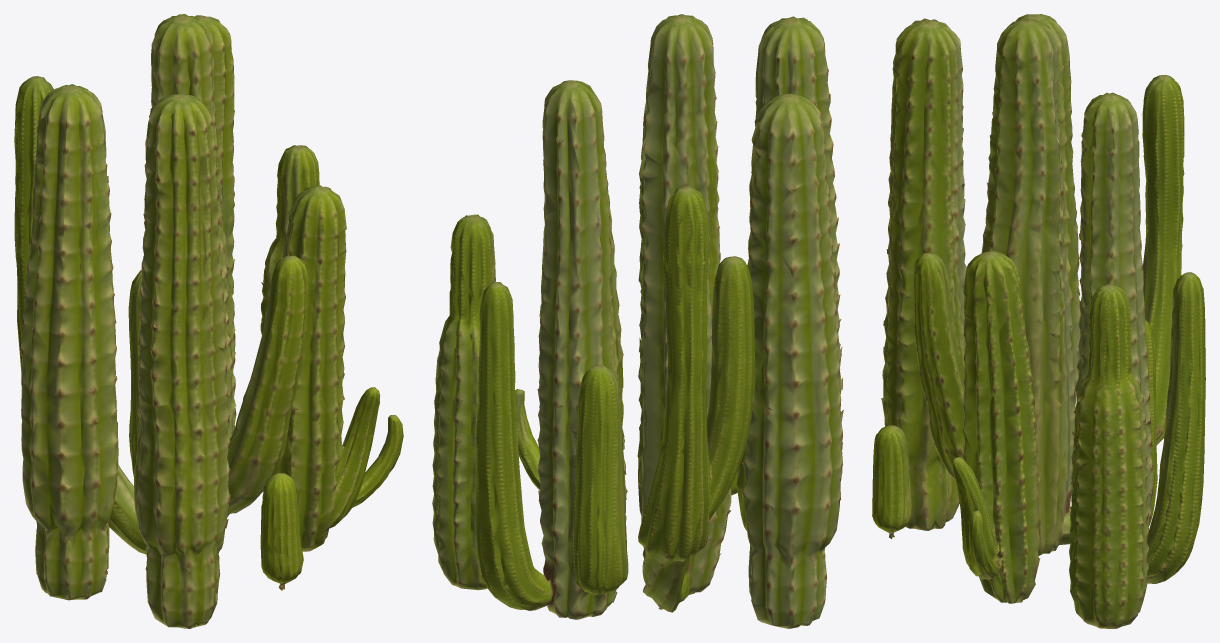
File: cactus.glb
The picture shows the model from 3 angles, left to right: view 1: azimuth 30°, elevation 25°; view 2: azimuth 150°, elevation 25°; view 3: azimuth 270°, elevation 25°; orthographic projection. The views are drawn at different scales.
Bounding box in the file's own units: 1.25 × 1.89 × 1.09.
Materials: 1 (1 with a texture image).
